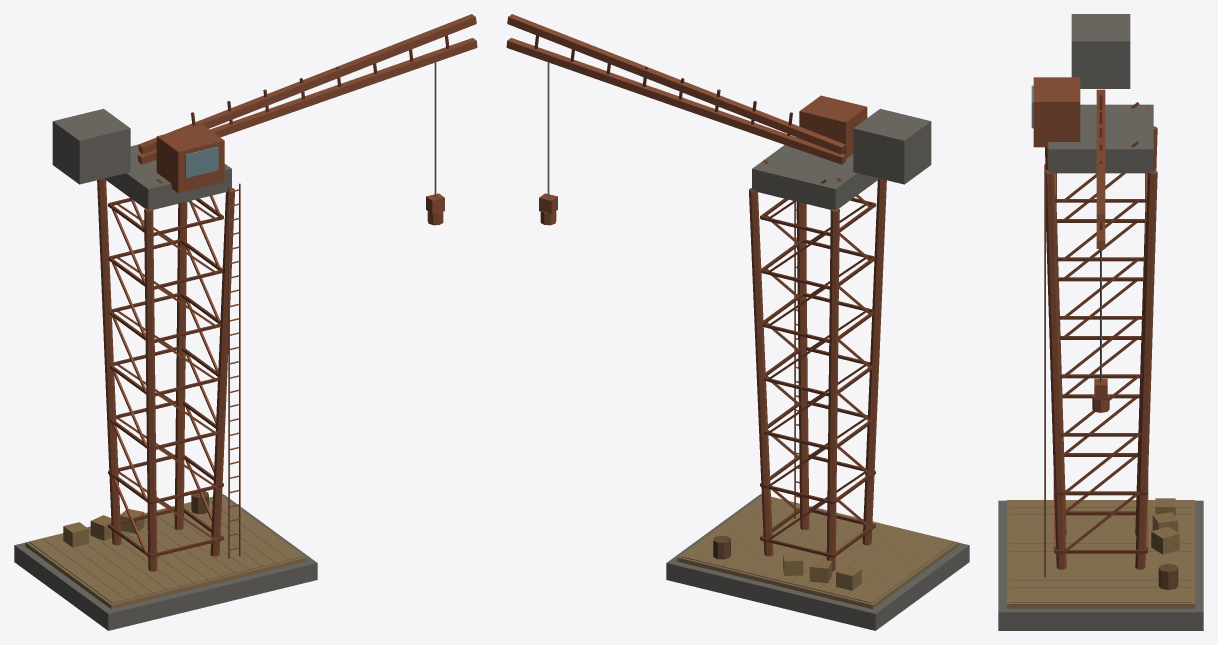
File: V_SalvageCrane.glb
The picture shows the model from 3 angles, left to right: view 1: azimuth 30°, elevation 25°; view 2: azimuth 150°, elevation 25°; view 3: azimuth 270°, elevation 25°; orthographic projection. The views are drawn at different scales.
Visible parts, largest first — view 1: V_SalvageCrane_Structure, V_SalvageCrane_Foundation, V_SalvageCrane_Fixtures, V_SalvageCrane_Props, V_SalvageCrane_Openings; view 2: V_SalvageCrane_Structure, V_SalvageCrane_Fixtures, V_SalvageCrane_Foundation, V_SalvageCrane_Props; view 3: V_SalvageCrane_Foundation, V_SalvageCrane_Structure, V_SalvageCrane_Fixtures, V_SalvageCrane_Props.
Part boxes in pixels (x1,y1,x2,y2): V_SalvageCrane_Structure: [97, 35, 449, 571]; V_SalvageCrane_Foundation: [14, 494, 317, 630]; V_SalvageCrane_Fixtures: [52, 14, 477, 558]; V_SalvageCrane_Props: [63, 62, 444, 547]; V_SalvageCrane_Openings: [185, 146, 218, 177]; V_SalvageCrane_Structure: [534, 35, 886, 571]; V_SalvageCrane_Fixtures: [506, 14, 931, 518]; V_SalvageCrane_Foundation: [666, 494, 969, 630]; V_SalvageCrane_Props: [539, 62, 861, 590]; V_SalvageCrane_Foundation: [998, 500, 1203, 630]; V_SalvageCrane_Structure: [1045, 95, 1157, 569]; V_SalvageCrane_Fixtures: [1033, 14, 1153, 577]; V_SalvageCrane_Props: [1092, 249, 1179, 589].
Bounding box in the file's own units: 17.82 × 19.76 × 7.
